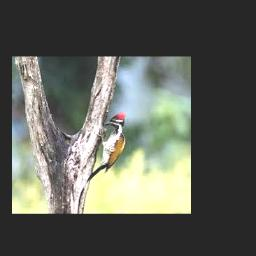Woodpecker: (87, 114, 125, 181)
